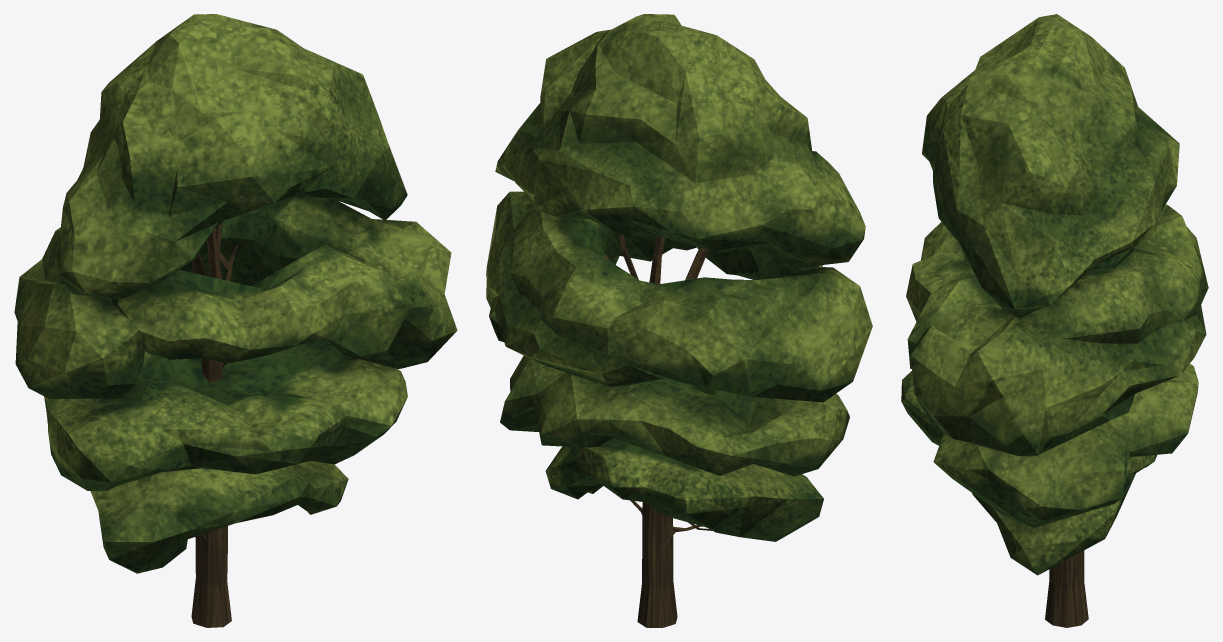
File: elm-tree.glb
3 renders of one model, left to right at view 1: azimuth 30°, elevation 25°; view 2: azimuth 150°, elevation 25°; view 3: azimuth 270°, elevation 25°, orthographic. The views are drawn at different scales.
Visible parts, largest first — view 1: ElmTree_Mesh; view 2: ElmTree_Mesh; view 3: ElmTree_Mesh.
Part boxes in pixels (box(x1,y1,x2,y2)): ElmTree_Mesh: box(14, 14, 457, 627); ElmTree_Mesh: box(486, 14, 872, 627); ElmTree_Mesh: box(901, 14, 1208, 627).
Bounding box in the file's own units: 14.77 × 21.61 × 10.27.
1 material, 1 textured.
